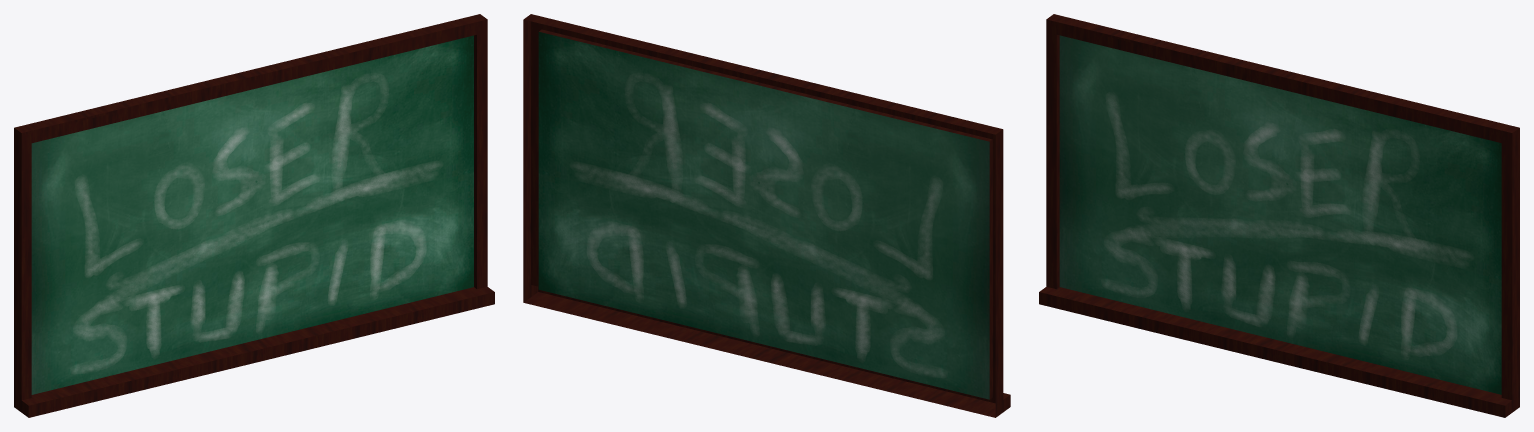
File: Blackboard.fbx
The picture shows the model from 3 angles, left to right: view 1: azimuth 30°, elevation 25°; view 2: azimuth 150°, elevation 25°; view 3: azimuth 330°, elevation 25°; orthographic projection.
Parts seen in each view (by area): view 1: pCube1; view 2: pCube1; view 3: pCube1.
Boxes of the visible parts, <box> form: pCube1: <box>14,14,494,417</box>; pCube1: <box>523,14,1010,417</box>; pCube1: <box>1039,14,1519,417</box>.
Size of the model in its own units: 3.39 by 1.94 by 0.1866.
